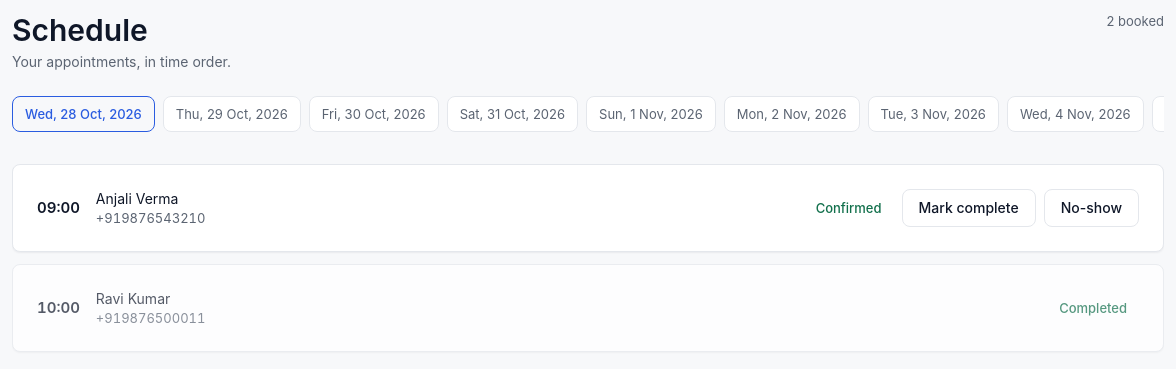
SchedulePage › marks a confirmed visit that has started as a no-show
Click the button "No-show" at (1091,208), box [1044, 189, 1139, 227]
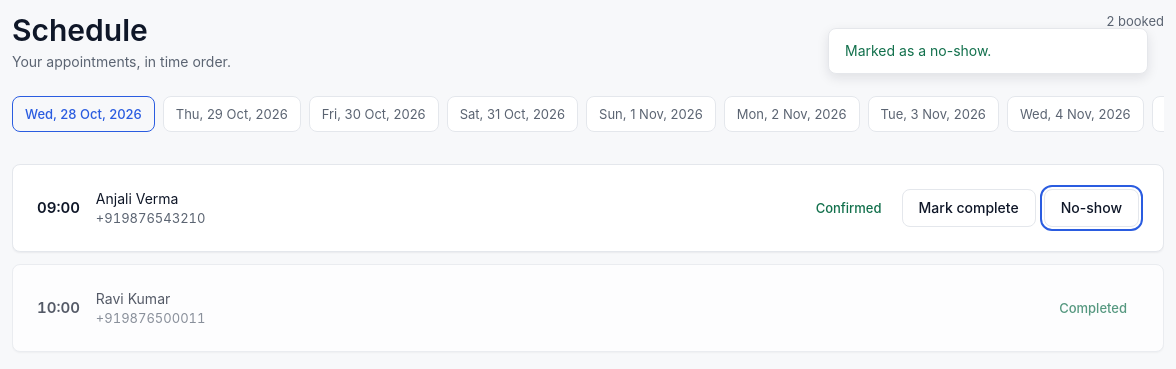
Expected: the text "Marked as a no-show." is shown, [828, 28, 1148, 74]
